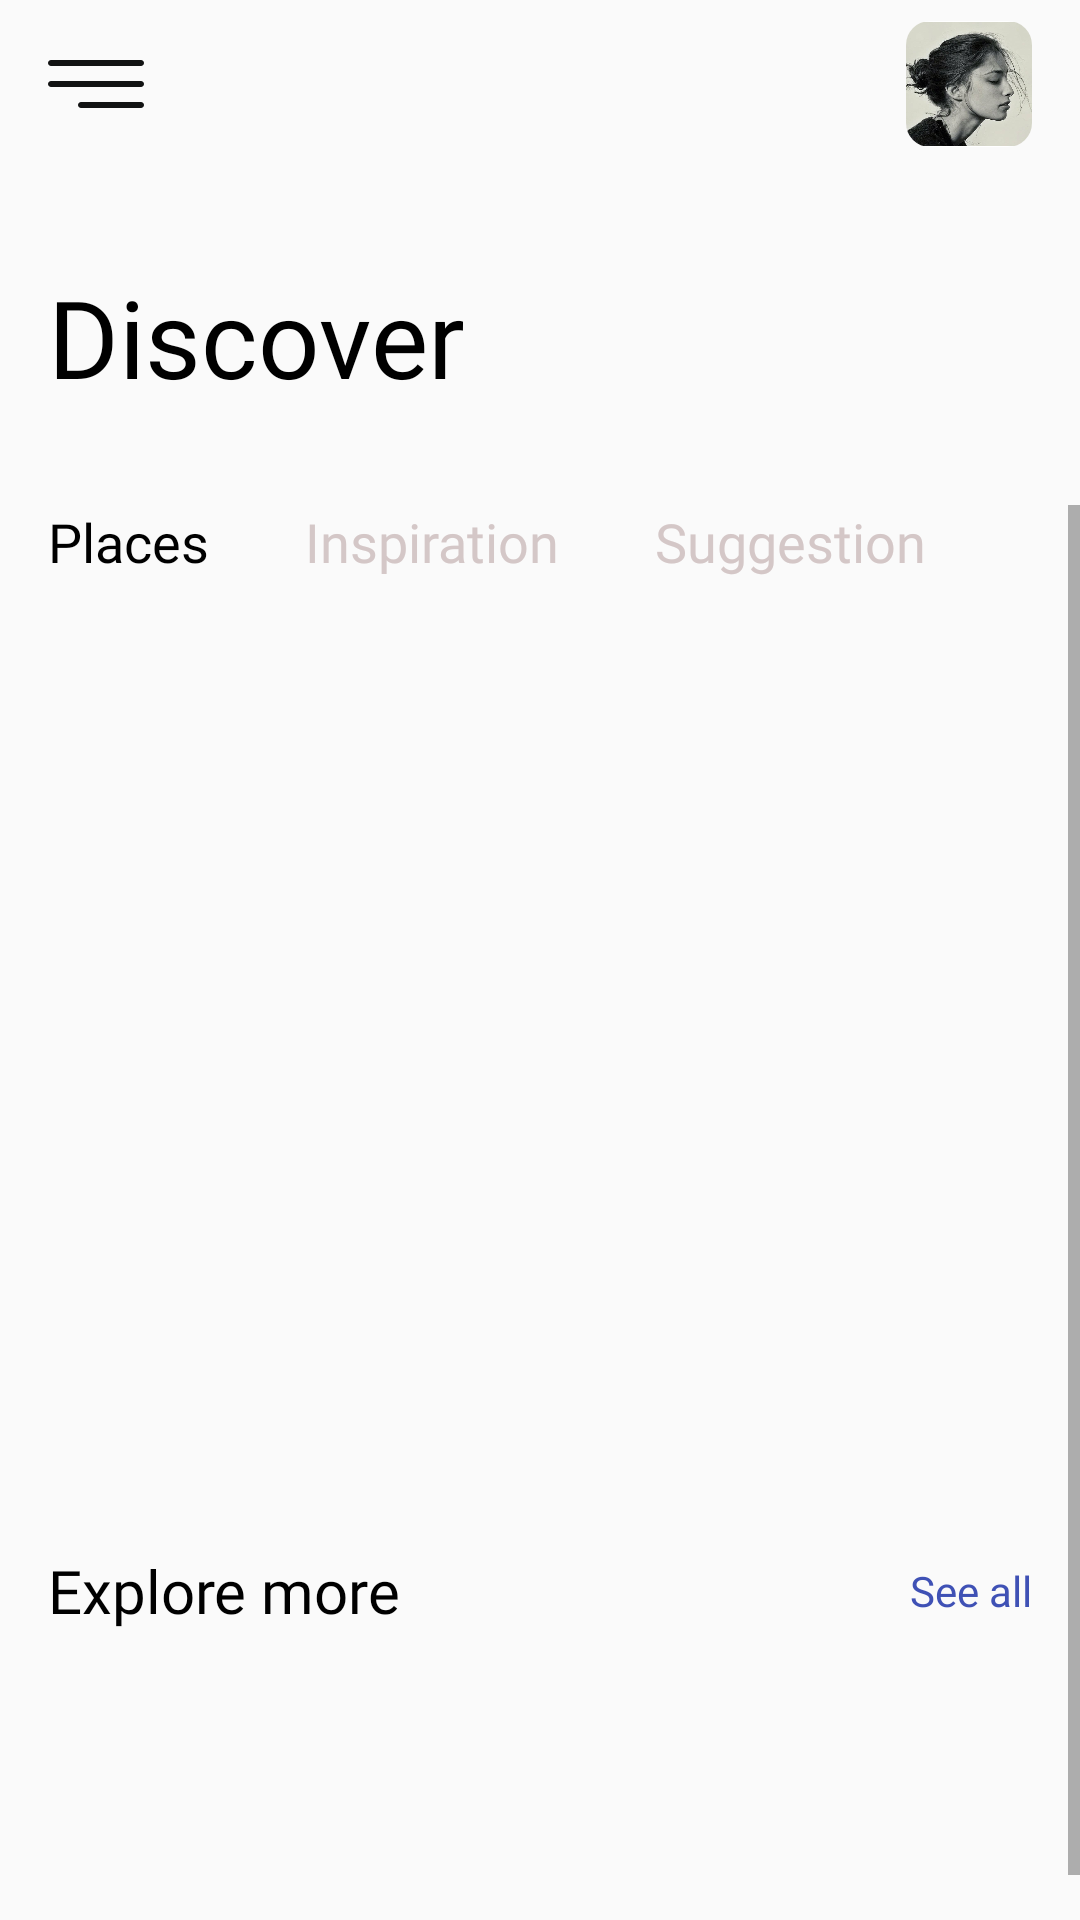

Named icons in this screenshot (1080 x 1920) and their centers, (x,y):
hamburger: (96,84)
profile: (969,84)
